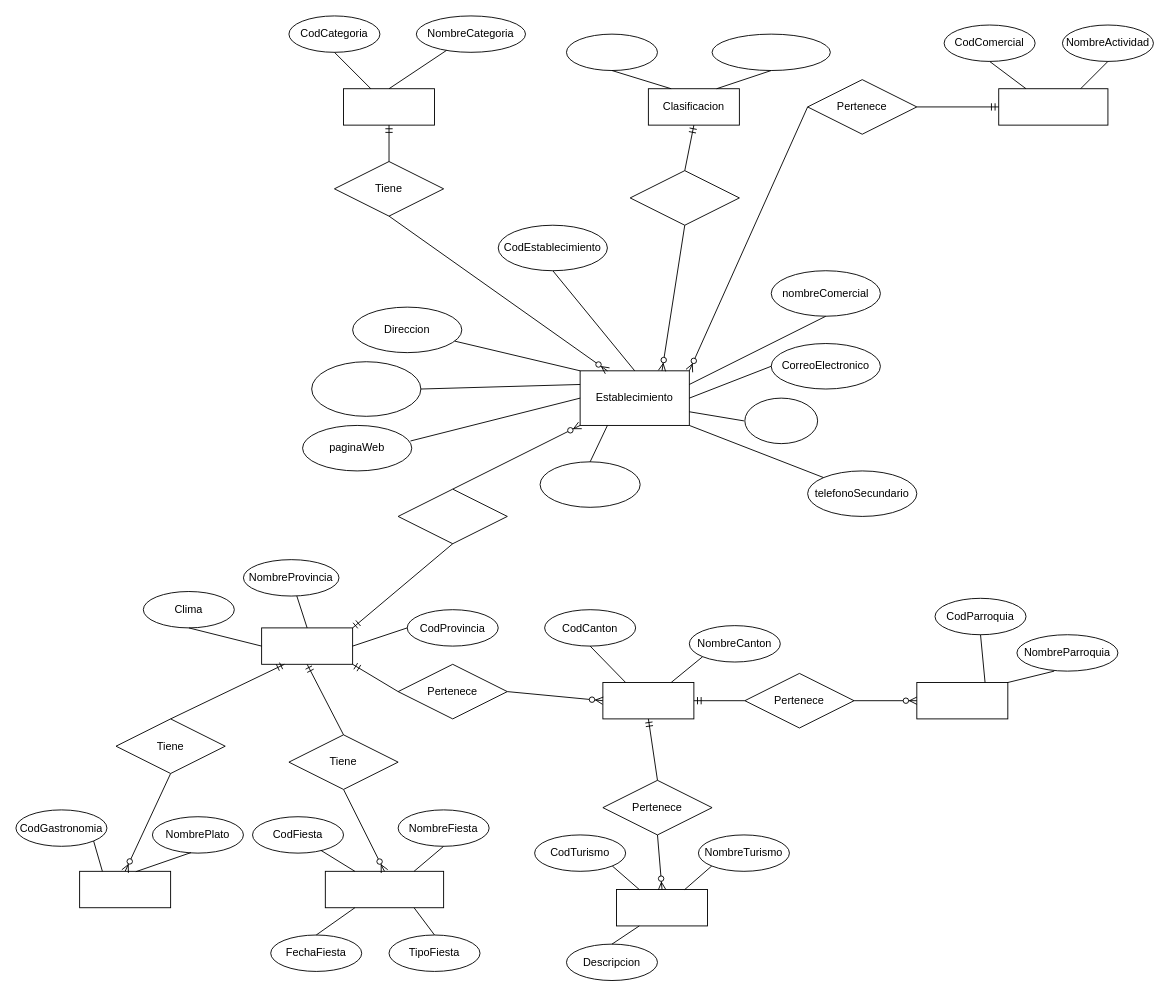
Image size: 1169x996. Some labels were removed from this diagram. Each missing label, with the box of its shape:
ActividadComercial: (998, 88, 1108, 125)
Canton: (602, 682, 694, 719)
Categoria: (343, 88, 435, 125)
Clasifica: (629, 170, 739, 225)
CodClasificacion: (566, 33, 657, 71)
delivery: (744, 397, 818, 444)
FiestasProvinciales: (324, 870, 444, 908)
Gastronomia: (79, 870, 171, 908)
NombreClasificacion: (711, 33, 830, 71)
Parroquia: (916, 682, 1008, 719)
Provincia: (261, 627, 353, 664)
referenciaDireccion: (311, 361, 421, 416)
Se ubica: (397, 488, 507, 544)
telefonoPrincipal: (539, 461, 640, 507)
TurismoCanton: (616, 889, 708, 926)
